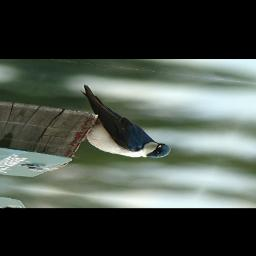Swallow: (46, 84, 201, 161)
